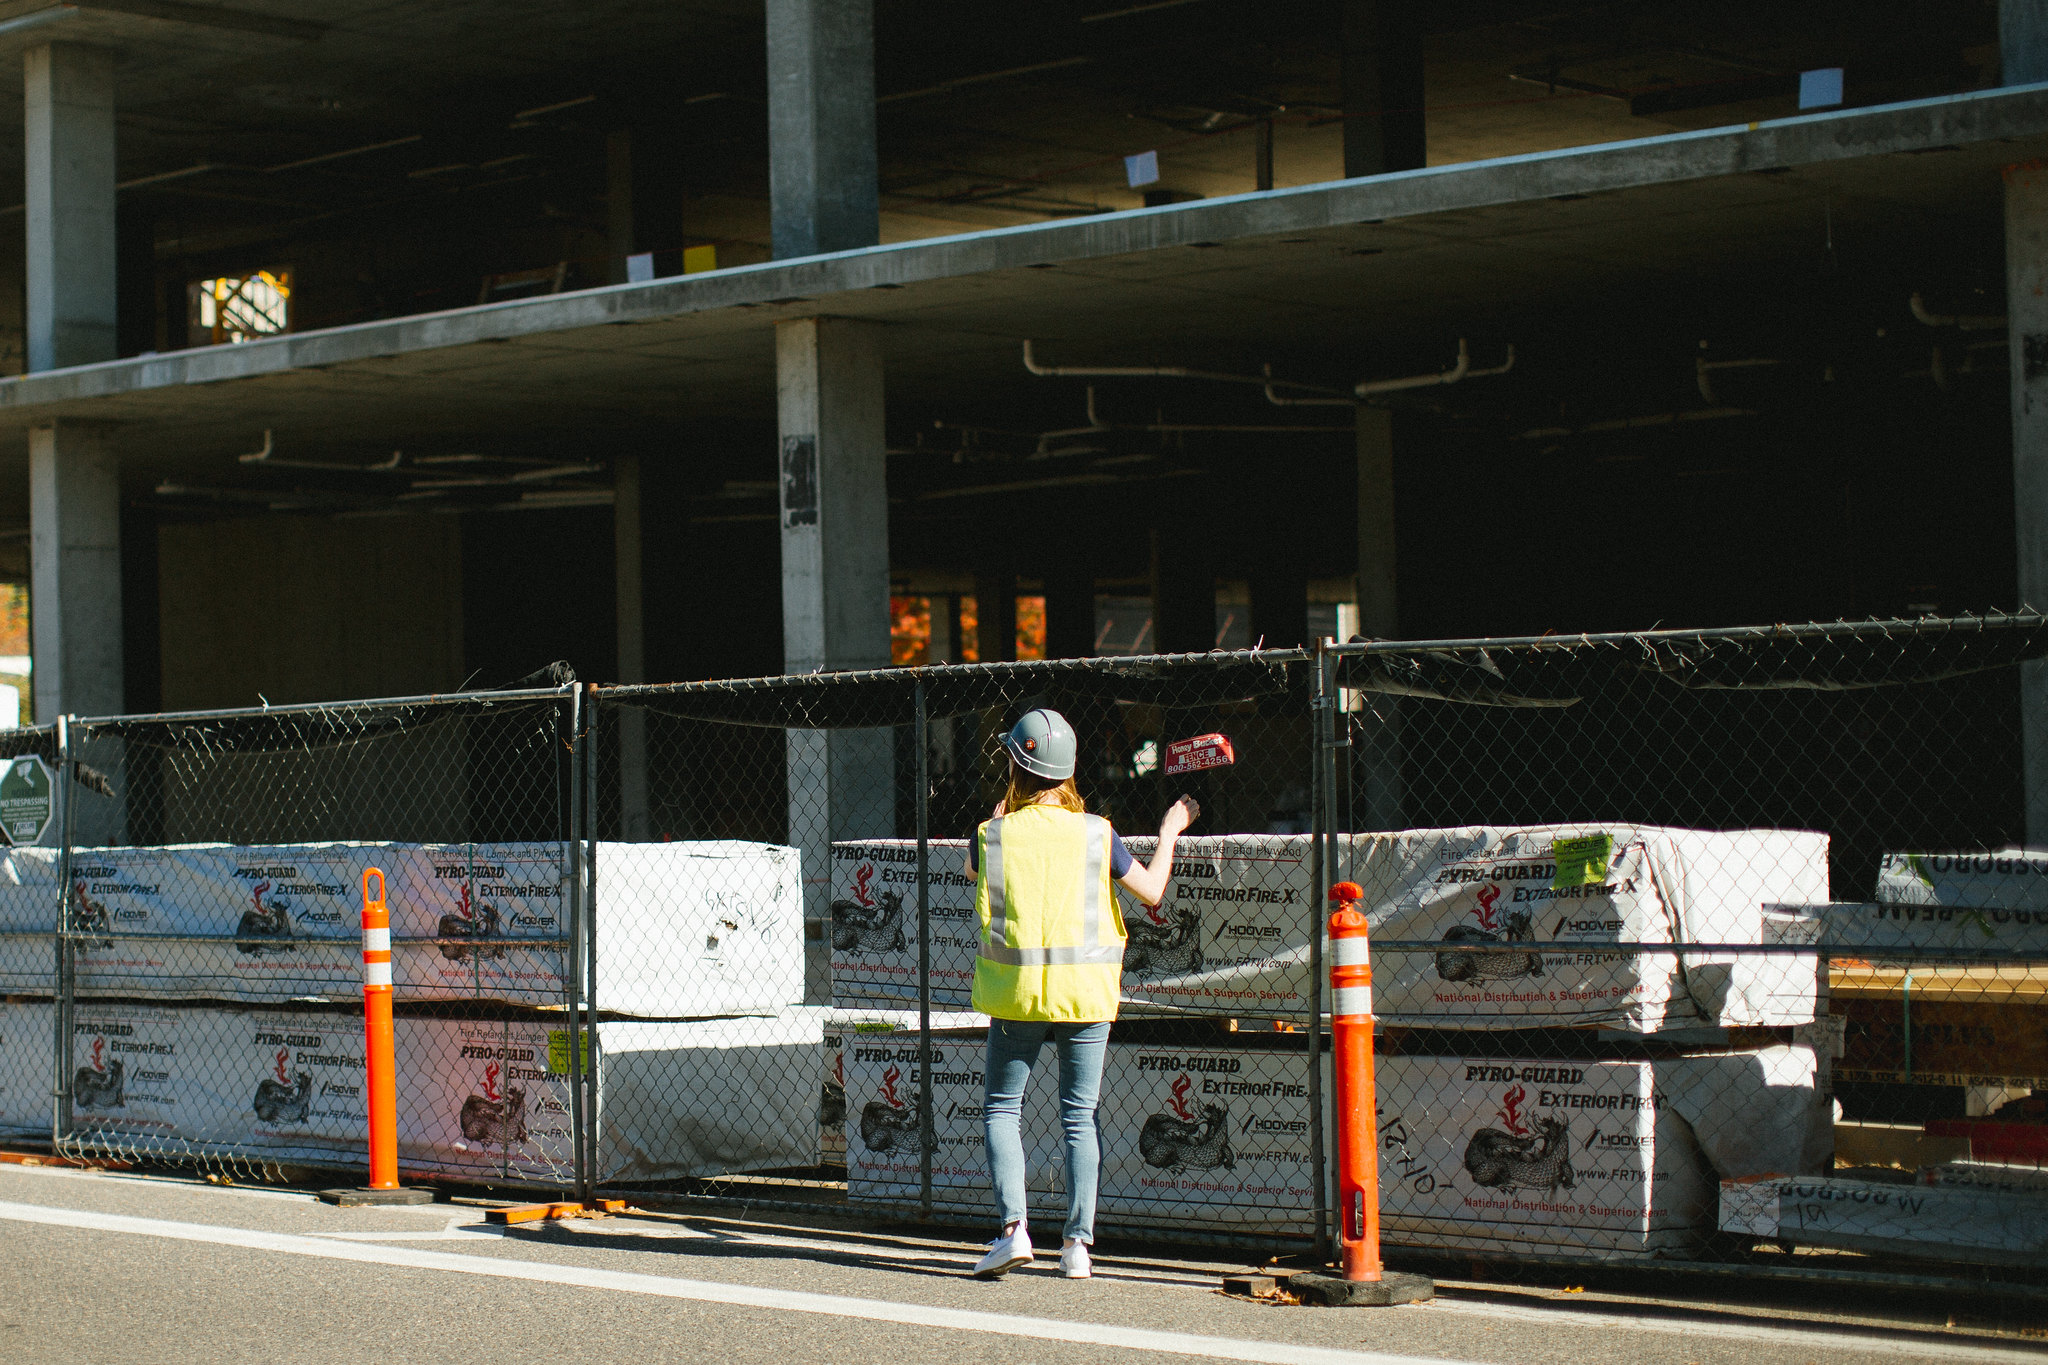Helmet: (991, 702, 1086, 788)
Reflective vest: (975, 809, 1134, 1027)
